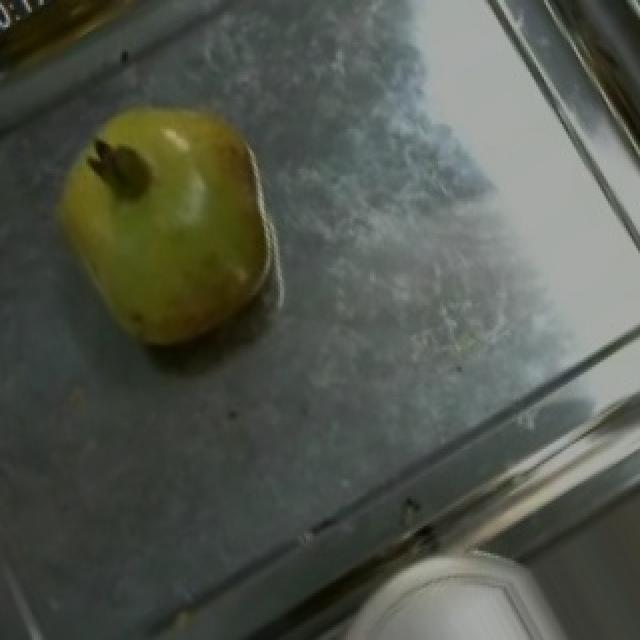fruit: (26, 67, 302, 330), (360, 543, 590, 640)
